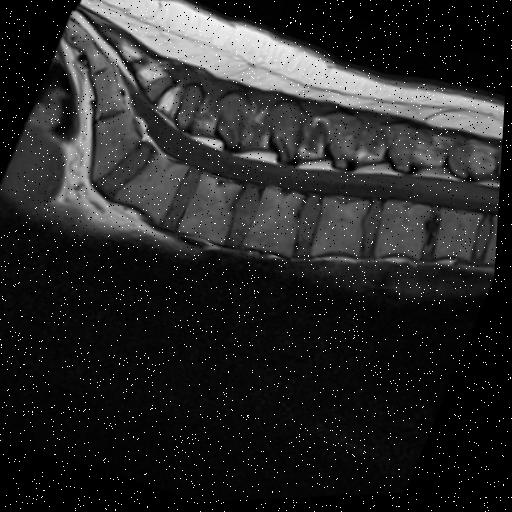L1: (378, 203, 434, 263)
L2: (313, 200, 371, 258)
L3: (246, 189, 307, 259)
L4: (180, 176, 243, 247)
L5: (117, 154, 190, 225)
S1: (91, 112, 142, 182)
